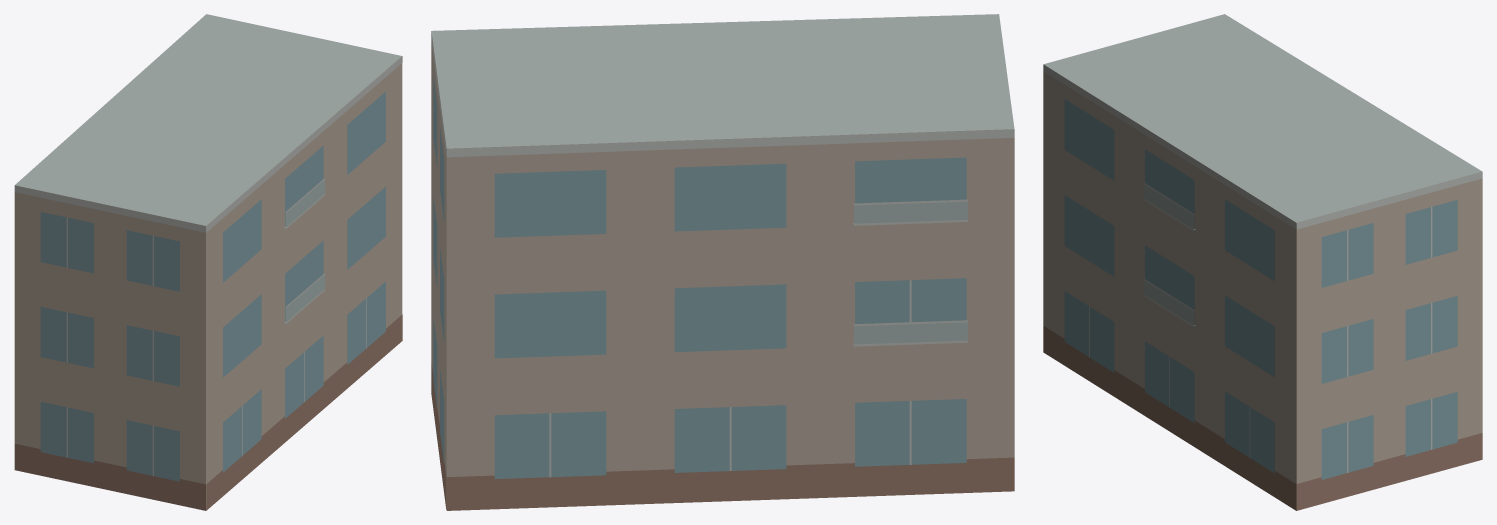
Rendered from survey-upis-32747898.glb.
3 views of the same model, side by side, from view 1: azimuth 30°, elevation 25°; view 2: azimuth 150°, elevation 25°; view 3: azimuth 270°, elevation 25° (orthographic). The views are drawn at different scales.
Visible parts, largest first — view 1: survey-upis-32747898.tmp; view 2: survey-upis-32747898.tmp; view 3: survey-upis-32747898.tmp.
Boxes of the visible parts, bbox=[...] form: survey-upis-32747898.tmp: bbox=[14, 14, 402, 510]; survey-upis-32747898.tmp: bbox=[431, 14, 1014, 510]; survey-upis-32747898.tmp: bbox=[1043, 14, 1482, 510].
Bounding box in the file's own units: 15.87 × 10.2 × 14.1.
